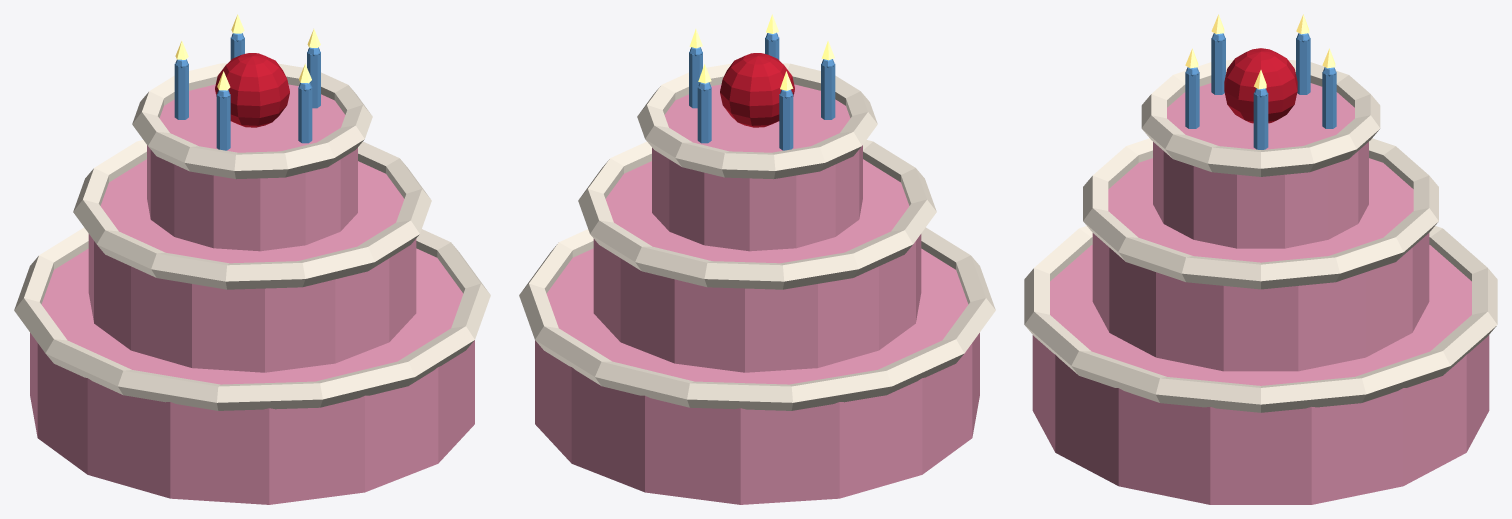
The model's file is float_cake.glb.
3 views of the same model, side by side, from view 1: azimuth 30°, elevation 25°; view 2: azimuth 150°, elevation 25°; view 3: azimuth 270°, elevation 25° (orthographic).
Parts seen in each view (by area): view 1: cake_cake_pink, cake_cake_cream, cake_cake_cherry, candles_candle (×4), candles_lamp; view 2: cake_cake_pink, cake_cake_cream, cake_cake_cherry, candles_candle (×4), candles_lamp; view 3: cake_cake_pink, cake_cake_cream, candles_candle (×5), cake_cake_cherry, candles_lamp.
Boxes of the visible parts, x1,y1,x2,y2 form: cake_cake_pink: (30, 84, 474, 504); cake_cake_cream: (14, 63, 490, 410); cake_cake_cherry: (215, 53, 289, 127); candles_candle (×4): (174, 47, 320, 150); candles_lamp: (175, 14, 320, 90); cake_cake_pink: (535, 84, 979, 504); cake_cake_cream: (519, 63, 995, 410); cake_cake_cherry: (720, 53, 794, 127); candles_candle (×4): (689, 47, 835, 150); candles_lamp: (689, 14, 834, 90); cake_cake_pink: (1032, 83, 1489, 504); cake_cake_cream: (1024, 59, 1497, 412); candles_candle (×5): (1185, 33, 1336, 149); cake_cake_cherry: (1224, 48, 1297, 123); candles_lamp: (1185, 14, 1335, 89).
Bounding box in the file's own units: 2.02 × 1.71 × 1.97.
